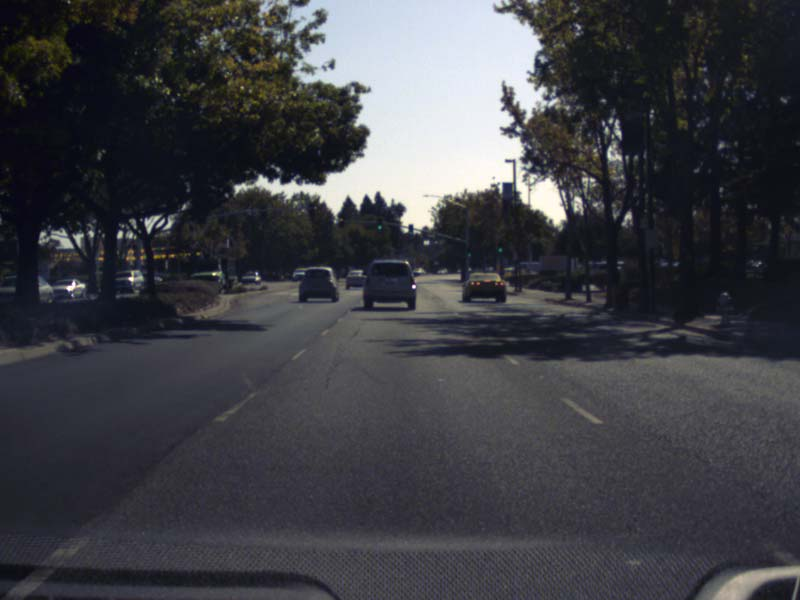Green: (496, 238, 503, 254), (376, 218, 382, 230), (465, 247, 471, 258), (408, 223, 412, 234)
Red: (339, 217, 344, 227)
